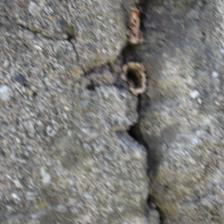Crack: (0, 65, 118, 137), (30, 35, 142, 80)
